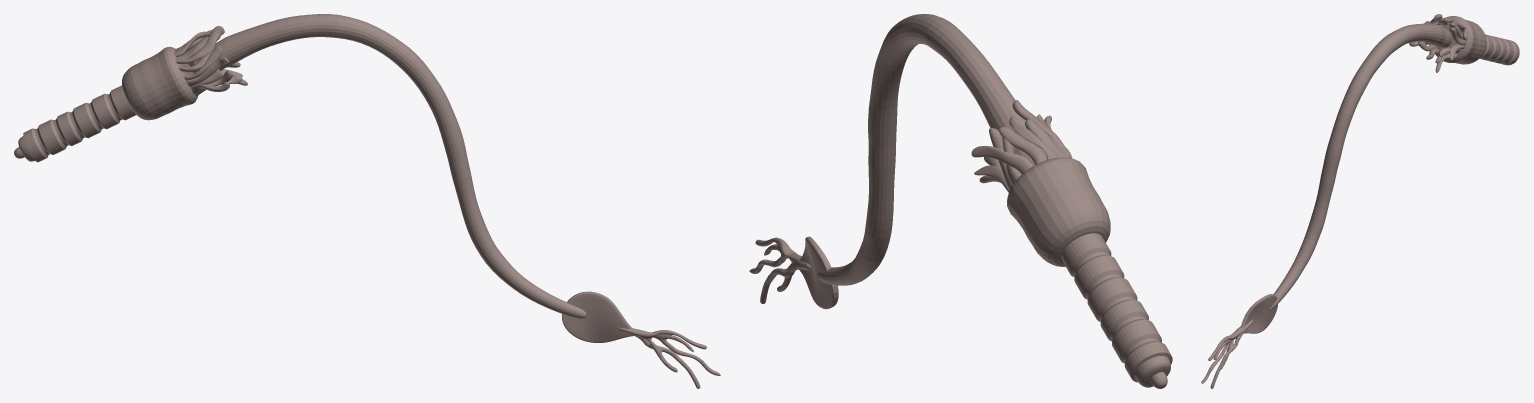
File: COSSACK_WHIP_1#40.glb
3 renders of one model, left to right at view 1: azimuth 30°, elevation 25°; view 2: azimuth 150°, elevation 25°; view 3: azimuth 270°, elevation 25°, orthographic. The views are drawn at different scales.
Parts seen in each view (by area): view 1: Plet1-Material.004, Plet1-Material.006, Plet1-Material.001, Plet1-Material.005, Plet1-Material.002, Plet1-Material.003; view 2: Plet1-Material.004, Plet1-Material.006, Plet1-Material.001, Plet1-Material.005, Plet1-Material.002, Plet1-Material.003; view 3: Plet1-Material.004, Plet1-Material.005, Plet1-Material.001, Plet1-Material.002, Plet1-Material.006, Plet1-Material.003.
Part boxes in pixels (x1,y1,x2,y2): Plet1-Material.004: (190, 14, 586, 318); Plet1-Material.006: (18, 85, 135, 162); Plet1-Material.001: (122, 46, 197, 120); Plet1-Material.005: (174, 26, 247, 96); Plet1-Material.002: (562, 291, 634, 342); Plet1-Material.003: (616, 327, 720, 388); Plet1-Material.004: (817, 14, 1047, 285); Plet1-Material.006: (1061, 233, 1172, 387); Plet1-Material.001: (1007, 157, 1110, 266); Plet1-Material.005: (971, 100, 1072, 192); Plet1-Material.002: (799, 236, 838, 309); Plet1-Material.003: (749, 237, 810, 303); Plet1-Material.004: (1269, 23, 1452, 311); Plet1-Material.005: (1409, 14, 1467, 72); Plet1-Material.001: (1435, 16, 1486, 64); Plet1-Material.002: (1240, 294, 1277, 333); Plet1-Material.006: (1479, 34, 1519, 65); Plet1-Material.003: (1201, 320, 1253, 388).
Size of the model in its own units: 3.57 by 2.36 by 2.59.
